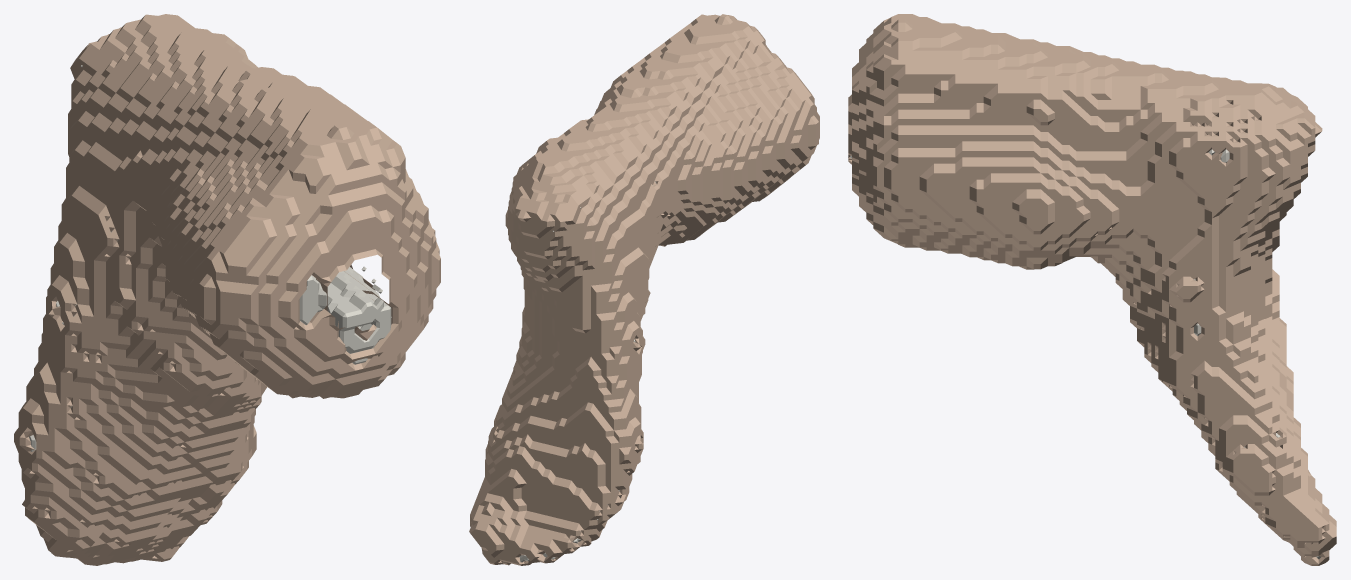
Rendered from foot.glb.
3 renders of one model, left to right at view 1: azimuth 30°, elevation 25°; view 2: azimuth 150°, elevation 25°; view 3: azimuth 270°, elevation 25°, orthographic. The views are drawn at different scales.
Parts seen in each view (by area): view 1: world; view 2: world; view 3: world.
Boxes of the visible parts, x1,y1,x2,y2 form: world: (14, 14, 440, 565); world: (469, 14, 819, 565); world: (848, 14, 1336, 565).
Bounding box in the file's own units: 102 × 237 × 206.
